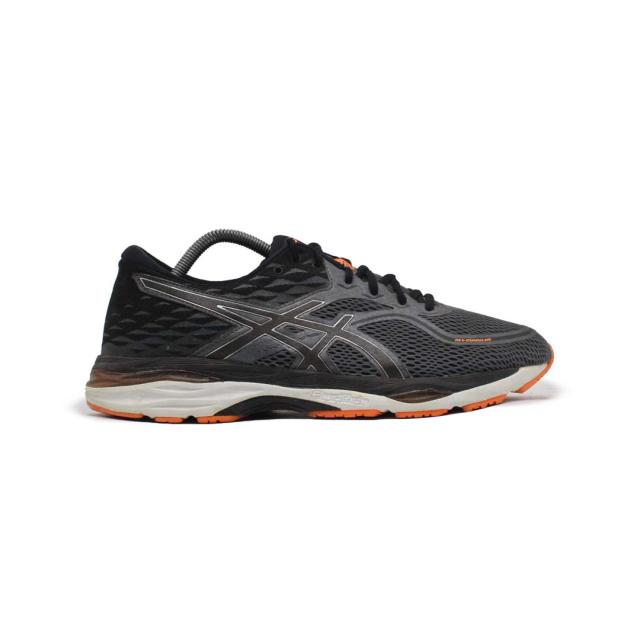heel: (84, 226, 152, 366)
midsole: (91, 367, 559, 428)
uppersole: (149, 230, 577, 382)
